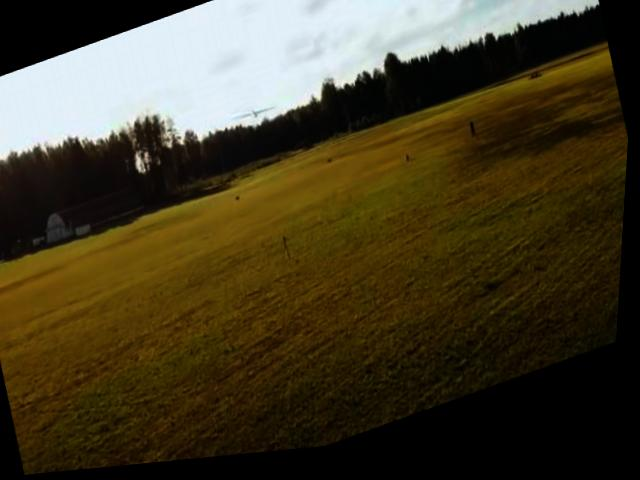iha: (235, 106, 279, 129)
